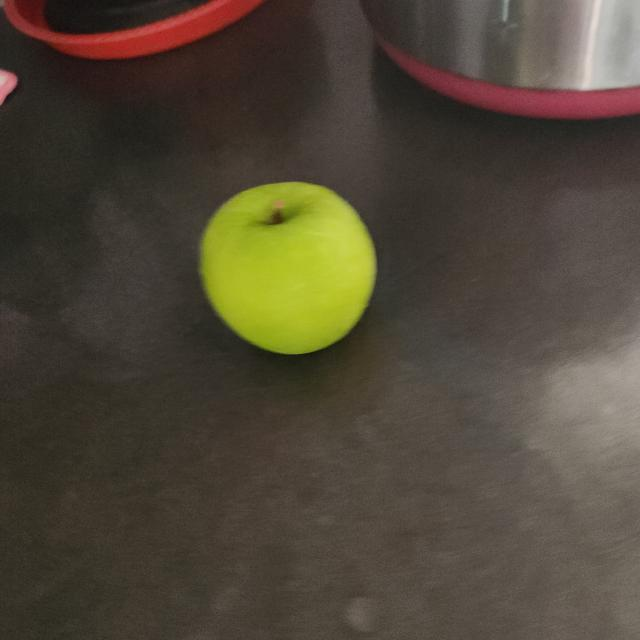apple: (194, 177, 378, 368)
